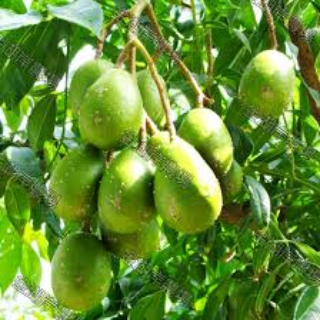coc: (78, 67, 140, 147), (239, 49, 296, 117)
